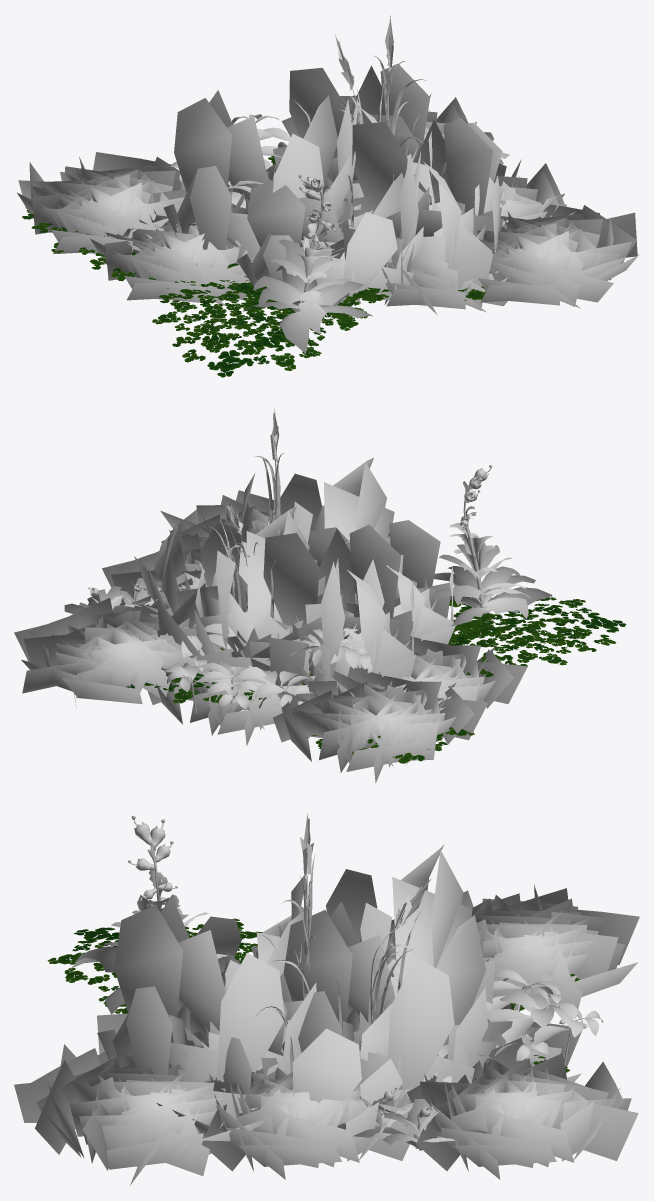
The picture shows the model from 3 angles, top to bottom: view 1: azimuth 30°, elevation 25°; view 2: azimuth 150°, elevation 25°; view 3: azimuth 270°, elevation 25°; orthographic projection. The views are drawn at different scales.
Parts seen in each view (by area): view 1: SM_BM_Weeds_03_LOD0; view 2: SM_BM_Weeds_03_LOD0; view 3: SM_BM_Weeds_03_LOD0.
Part boxes in pixels (<box>): SM_BM_Weeds_03_LOD0: <box>17,15,639,377</box>; SM_BM_Weeds_03_LOD0: <box>14,408,626,782</box>; SM_BM_Weeds_03_LOD0: <box>14,813,639,1185</box>.
Size of the model in its own units: 2.84 by 1.48 by 2.77.
